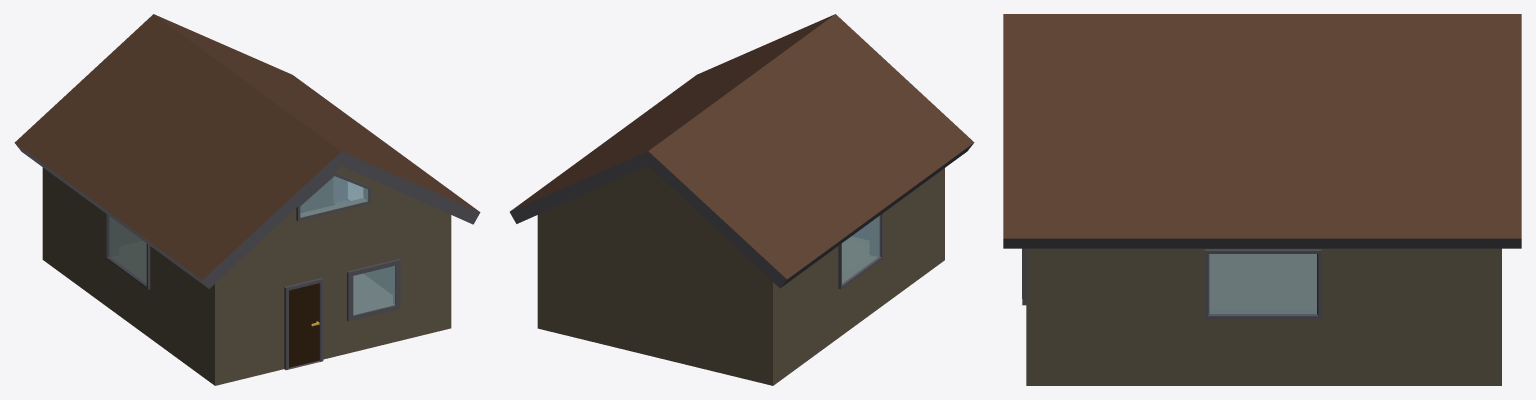
Rendered from logHouseFlat.fbx.
3 views of the same model, side by side, from view 1: azimuth 30°, elevation 25°; view 2: azimuth 150°, elevation 25°; view 3: azimuth 270°, elevation 25° (orthographic). The views are drawn at different scales.
Visible parts, largest first — view 1: roof, main; view 2: roof, main; view 3: roof, main.
Boxes of the visible parts, box(x1,y1,x2,y2) form: roof: box(14, 14, 480, 288); main: box(42, 166, 451, 385); roof: box(510, 14, 974, 288); main: box(537, 166, 944, 385); roof: box(1003, 14, 1521, 248); main: box(1022, 248, 1501, 385).
Size of the model in its own units: 1476 by 1074 by 1725.
